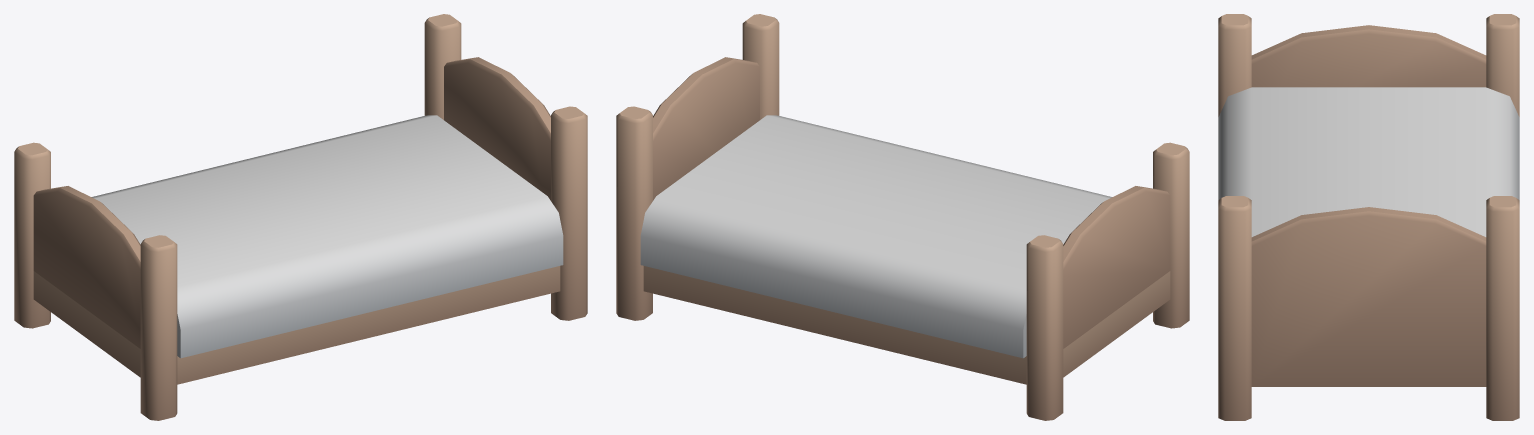
File: bed-detail-rounded-single.glb
3 renders of one model, left to right at view 1: azimuth 30°, elevation 25°; view 2: azimuth 150°, elevation 25°; view 3: azimuth 270°, elevation 25°, orthographic. The views are drawn at different scales.
Parts seen in each view (by area): view 1: bed-detail-rounded-single; view 2: bed-detail-rounded-single; view 3: bed-detail-rounded-single.
Part boxes in pixels (x1,y1,x2,y2): bed-detail-rounded-single: (14, 14, 587, 420); bed-detail-rounded-single: (616, 14, 1189, 420); bed-detail-rounded-single: (1218, 14, 1519, 420).
Size of the model in its own units: 1.6 by 0.7 by 0.9.
